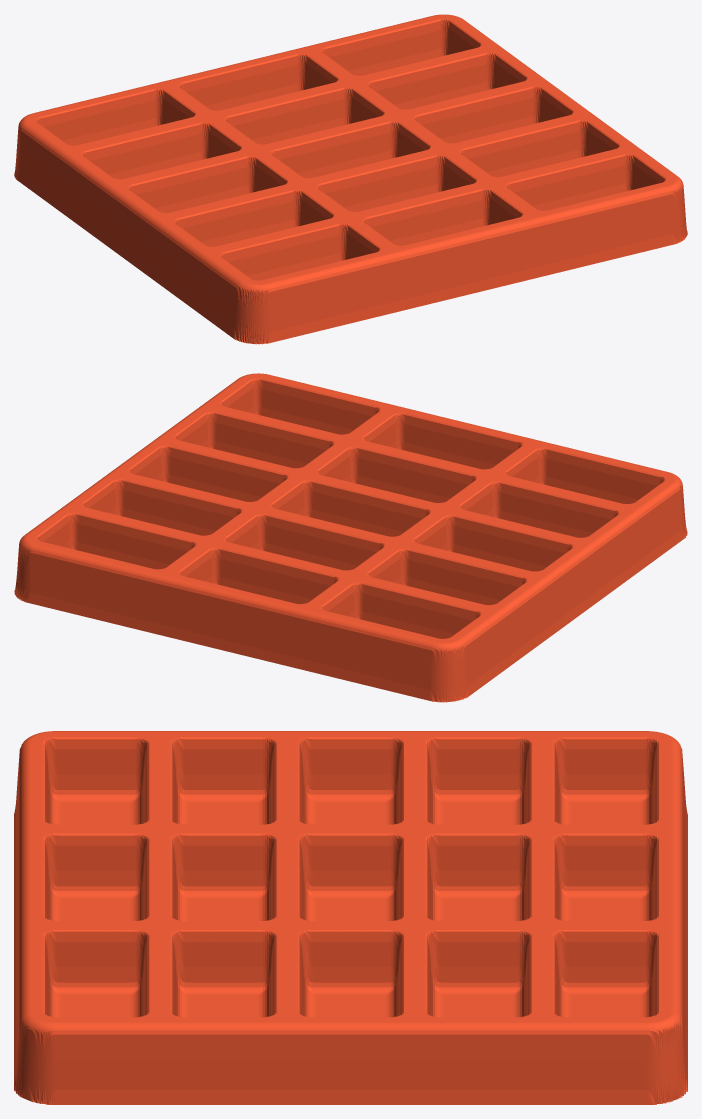
File: mold.glb
3 renders of one model, top to bottom at view 1: azimuth 30°, elevation 25°; view 2: azimuth 150°, elevation 25°; view 3: azimuth 270°, elevation 25°, orthographic. The views are drawn at different scales.
Visible parts, largest first — view 1: geometry_0; view 2: geometry_0; view 3: geometry_0.
Part boxes in pixels (box(x1,y1,x2,y2)): geometry_0: box(14, 14, 687, 344); geometry_0: box(14, 373, 687, 702); geometry_0: box(14, 731, 687, 1104).
Size of the model in its own units: 0.1602 by 0.0185 by 0.1499.
